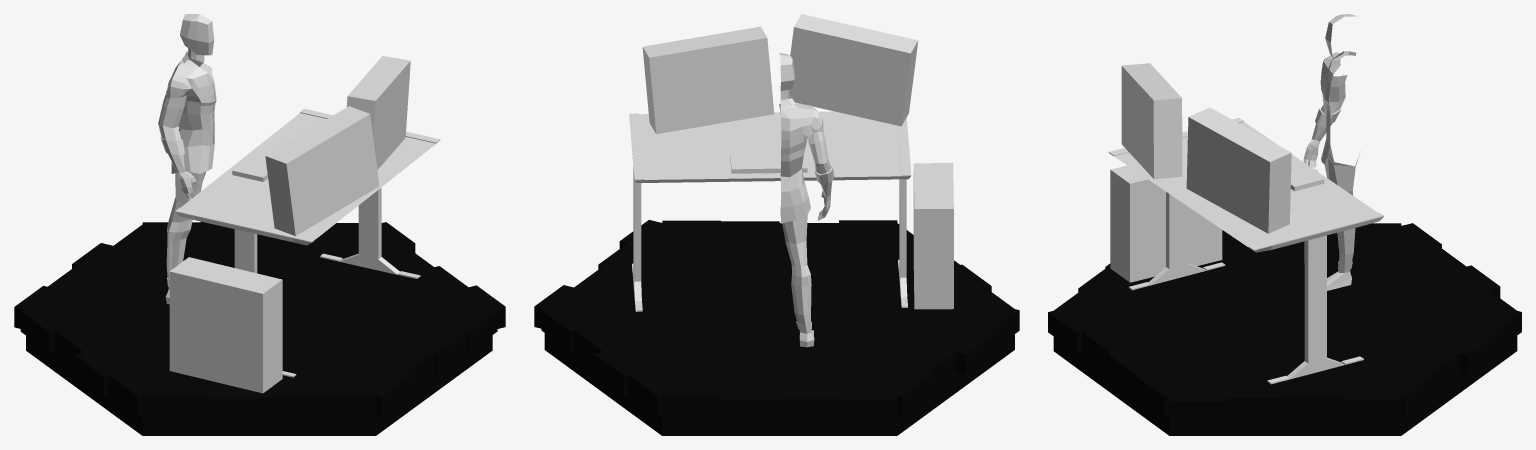
Rendered from Hex_PC_table.glb.
3 views of the same model, side by side, from view 1: azimuth 30°, elevation 25°; view 2: azimuth 150°, elevation 25°; view 3: azimuth 270°, elevation 25° (orthographic).
Parts seen in each view (by area): view 1: tILE, Cube.001, Cube, Cube.004, Circle, Cube.003, Cube.002; view 2: tILE, Cube, Cube.003, Cube.004, Circle, Cube.001, Cube.002; view 3: tILE, Cube, Cube.003, Cube.001, Cube.004, Circle, Cube.002.
Part boxes in pixels (<box>): tILE: <box>14,221,505,435</box>; Cube.001: <box>169,257,282,393</box>; Cube: <box>175,108,440,377</box>; Cube.004: <box>265,106,379,236</box>; Circle: <box>158,14,216,304</box>; Cube.003: <box>346,56,410,169</box>; Cube.002: <box>232,142,281,181</box>; tILE: <box>534,220,1019,435</box>; Cube: <box>629,111,911,311</box>; Cube.003: <box>642,26,774,134</box>; Cube.004: <box>789,14,918,126</box>; Circle: <box>779,53,834,347</box>; Cube.001: <box>913,163,953,309</box>; Cube.002: <box>730,153,807,173</box>; tILE: <box>1048,223,1521,435</box>; Cube: <box>1108,117,1383,384</box>; Cube.003: <box>1186,107,1291,233</box>; Cube.001: <box>1110,165,1222,282</box>; Cube.004: <box>1121,63,1182,179</box>; Circle: <box>1303,14,1359,290</box>; Cube.002: <box>1290,157,1324,191</box>.
Size of the model in its own units: 5.54 by 4.57 by 6.13.
1 material, 1 textured.
